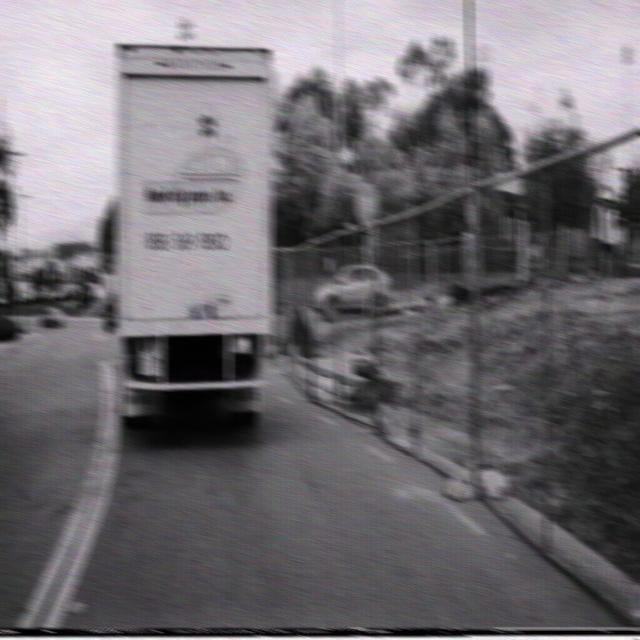stop: (354, 182, 380, 224)
